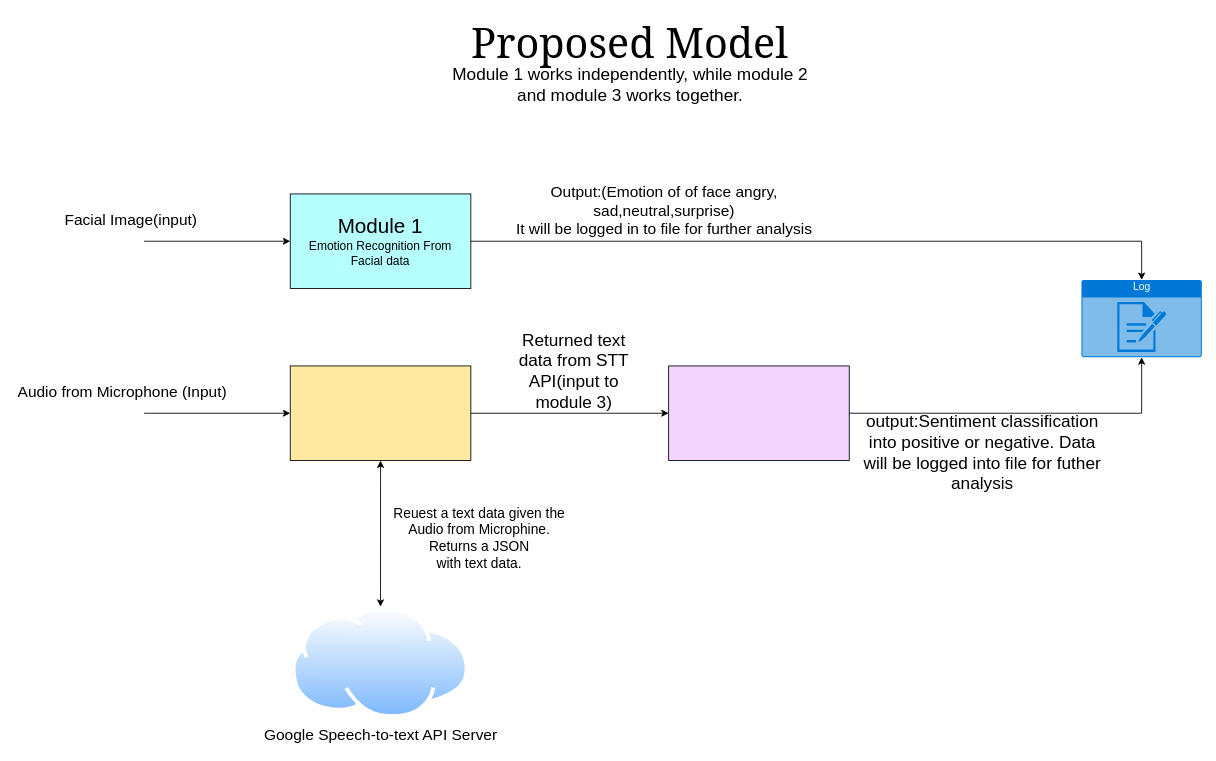
Some shapes in this 1216 by 761 pixel diagram are drawn without their labels. The shapes that lost their labels are listed below. From the top down, each one's centre as x and y in pixels, then its label:
At point (380, 413): "Module 2 Voice Recognition module (google text speech-to-text API)".
At point (758, 413): "Module 3 Text Sentiment Analysis".
